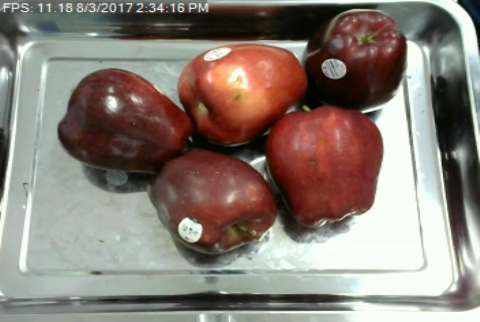Apple: (54, 66, 198, 178), (263, 103, 385, 229), (146, 146, 282, 258), (174, 40, 311, 150), (302, 3, 409, 111)
